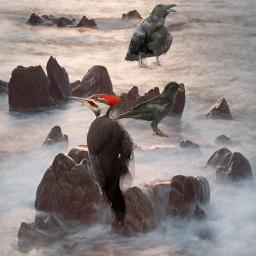Crow: (112, 81, 184, 138), (124, 3, 178, 68)
Woodpecker: (67, 94, 137, 227)
